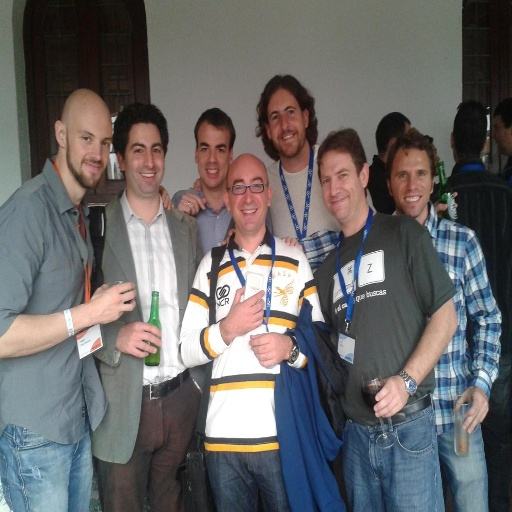hand: (76, 281, 131, 331), (227, 282, 265, 336), (367, 374, 411, 420), (451, 386, 489, 436), (115, 317, 161, 358), (247, 330, 288, 368), (176, 192, 207, 218), (432, 190, 459, 216), (158, 182, 176, 214), (281, 235, 302, 250), (221, 228, 235, 246), (190, 178, 201, 198)
